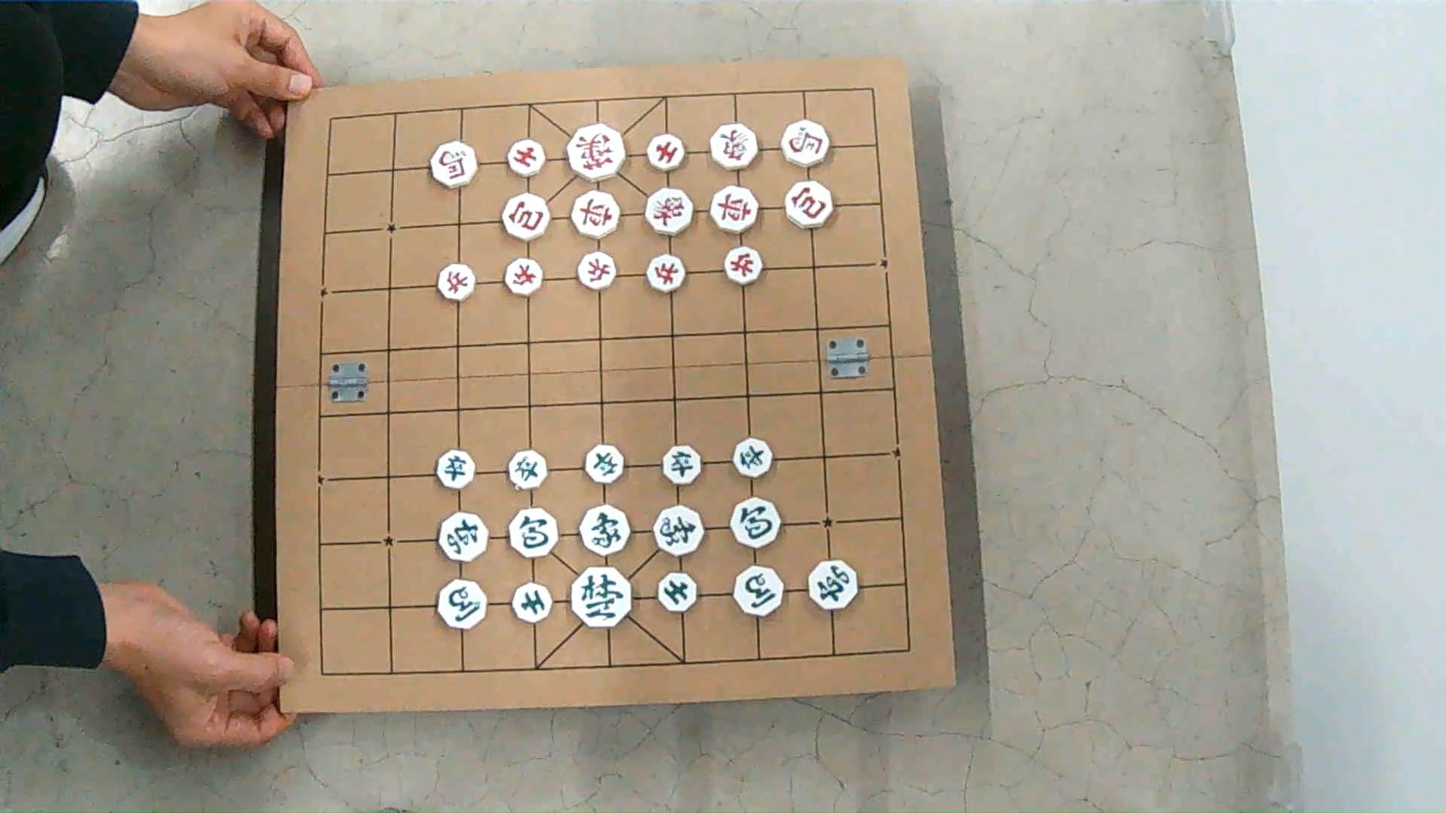cha_green: (808, 560, 857, 610), (438, 513, 487, 562)
cha_red: (572, 191, 619, 239), (709, 186, 757, 233)
jol_green: (436, 449, 474, 489), (507, 450, 545, 490), (585, 445, 624, 483), (662, 446, 700, 485), (734, 439, 772, 477)
jol_red: (723, 246, 762, 285), (646, 254, 685, 292), (504, 258, 541, 296), (578, 252, 615, 290), (438, 263, 474, 300)
ma_green: (734, 566, 782, 616), (438, 580, 484, 629)
ma_red: (781, 120, 828, 166), (429, 142, 476, 187)
po_green: (731, 498, 780, 547), (509, 508, 557, 558)
po_red: (501, 193, 549, 240), (786, 181, 832, 228)
sa_green: (658, 573, 696, 612), (514, 583, 551, 623)
sa_red: (647, 133, 685, 171), (508, 140, 544, 177)
sang_green: (579, 505, 629, 555), (653, 505, 702, 556)
sang_red: (645, 187, 693, 236), (710, 124, 756, 170)
wang_green: (571, 565, 631, 628)
wang_red: (568, 123, 625, 180)
